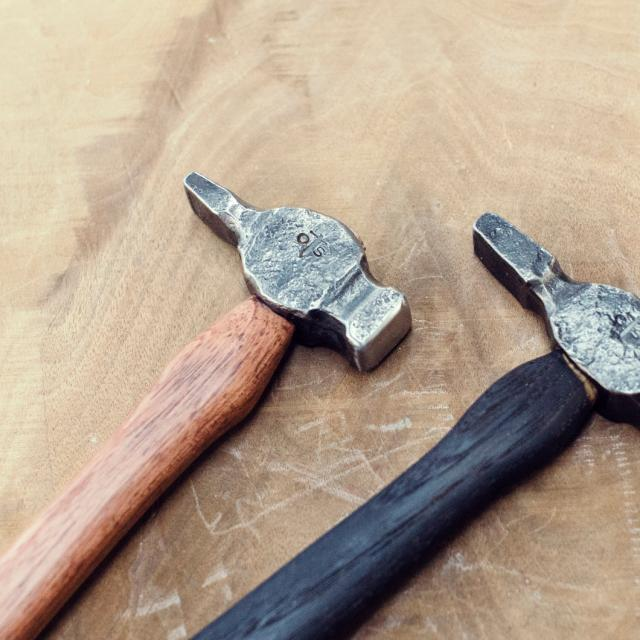hammer: (183, 207, 640, 640), (0, 163, 420, 634)
